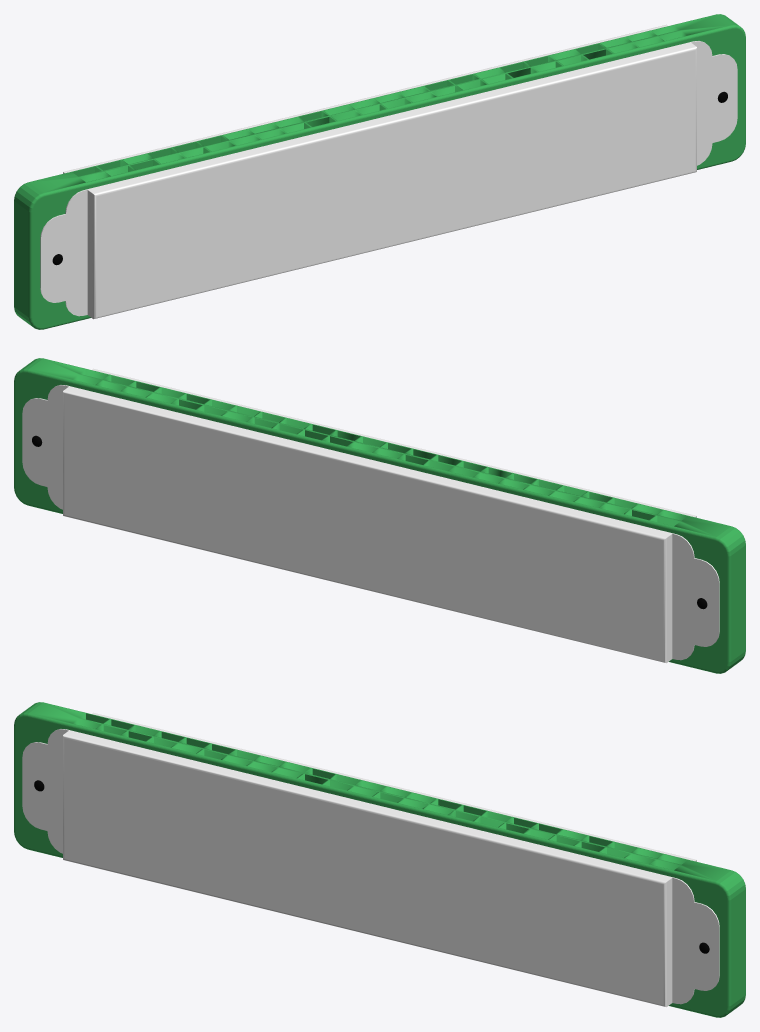
The model's file is harmonica.gltf.
The picture shows the model from 3 angles, top to bottom: view 1: azimuth 30°, elevation 25°; view 2: azimuth 150°, elevation 25°; view 3: azimuth 330°, elevation 25°; orthographic projection.
Parts seen in each view (by area): view 1: 两侧金属, 绿色主体; view 2: 两侧金属, 绿色主体; view 3: 两侧金属, 绿色主体.
Part boxes in pixels (box(x1,y1,x2,y2)): 两侧金属: box(40, 24, 737, 319); 绿色主体: box(14, 14, 745, 329); 两侧金属: box(22, 368, 719, 663); 绿色主体: box(14, 358, 745, 673); 两侧金属: box(22, 712, 719, 1007); 绿色主体: box(14, 702, 745, 1017).
Bounding box in the file's own units: 5.1 × 0.9275 × 0.3965.
